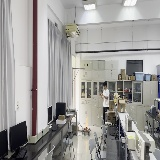fire: (84, 115, 89, 129)
